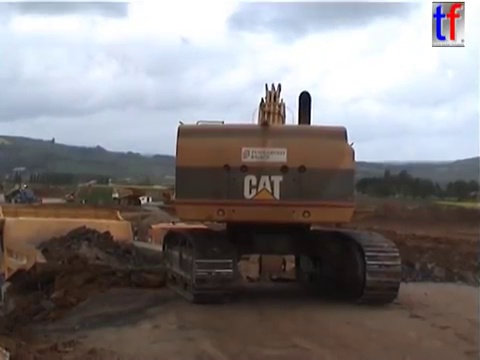excavator: (158, 79, 407, 308)
truck: (1, 203, 205, 360), (144, 219, 242, 295), (109, 186, 146, 208), (151, 187, 184, 211)
